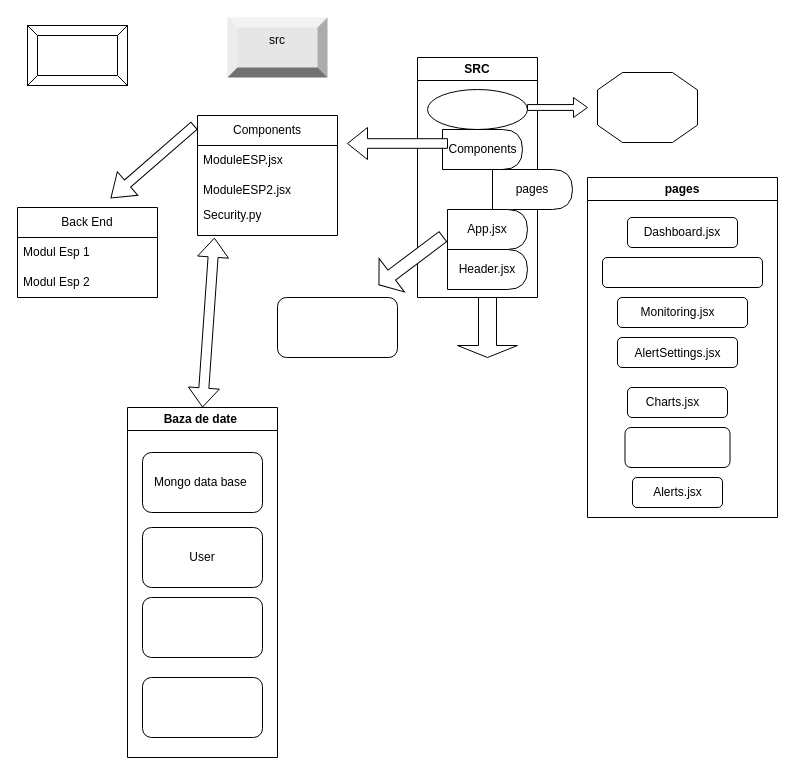
Image size: 795x775. Some labels were removed from this diagram. The shapes that lost their labels are listed below. From the top down, each one's centre as x and y in pixels, then its label:
At point (77, 55): "Agromonitor".
At point (477, 109): "Assets".
At point (647, 107): "Imagini si componente vizuale folosite".
At point (682, 272): "MixMacronutrients.jsx".
At point (337, 327): "Afisare in partea de sus".
At point (677, 447): "Settings.jsx".
